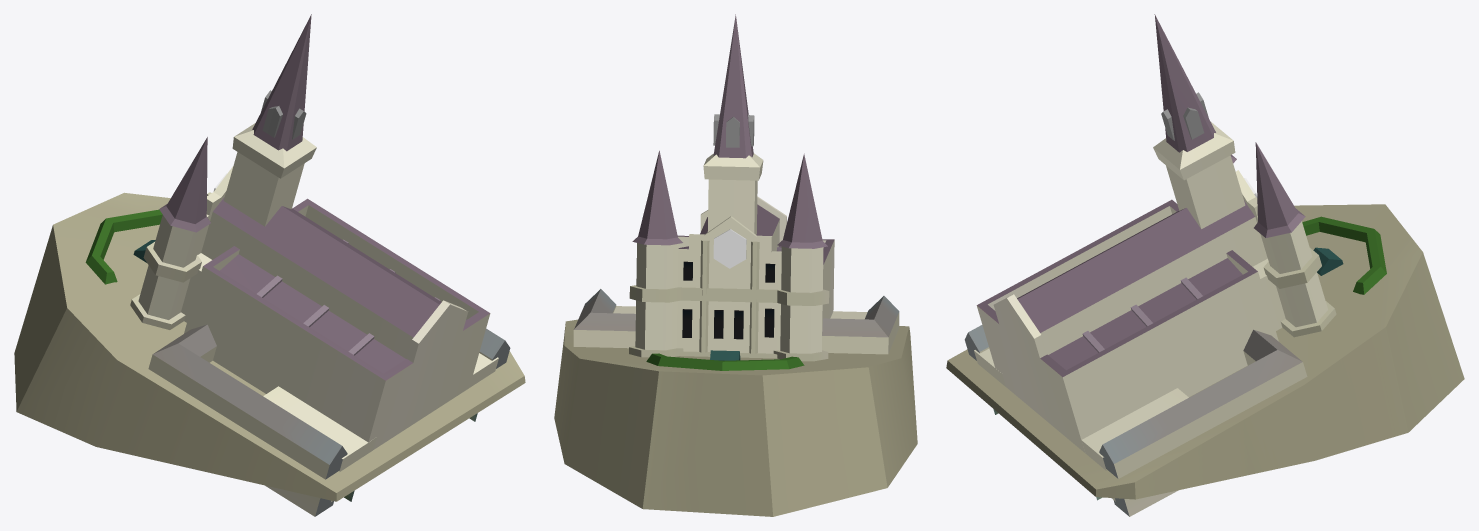
Rendered from NEW_ORLEANS_lv01.fbx.
The picture shows the model from 3 angles, left to right: view 1: azimuth 30°, elevation 25°; view 2: azimuth 150°, elevation 25°; view 3: azimuth 270°, elevation 25°; orthographic projection. The views are drawn at different scales.
Visible parts, largest first — view 1: NEW_ORLEANS_lv01; view 2: NEW_ORLEANS_lv01; view 3: NEW_ORLEANS_lv01.
Part boxes in pixels (x1,y1,x2,y2): NEW_ORLEANS_lv01: (14, 14, 525, 516); NEW_ORLEANS_lv01: (554, 14, 917, 516); NEW_ORLEANS_lv01: (946, 14, 1464, 516).
Bounding box in the file's own units: 8233 × 7929 × 8856.
